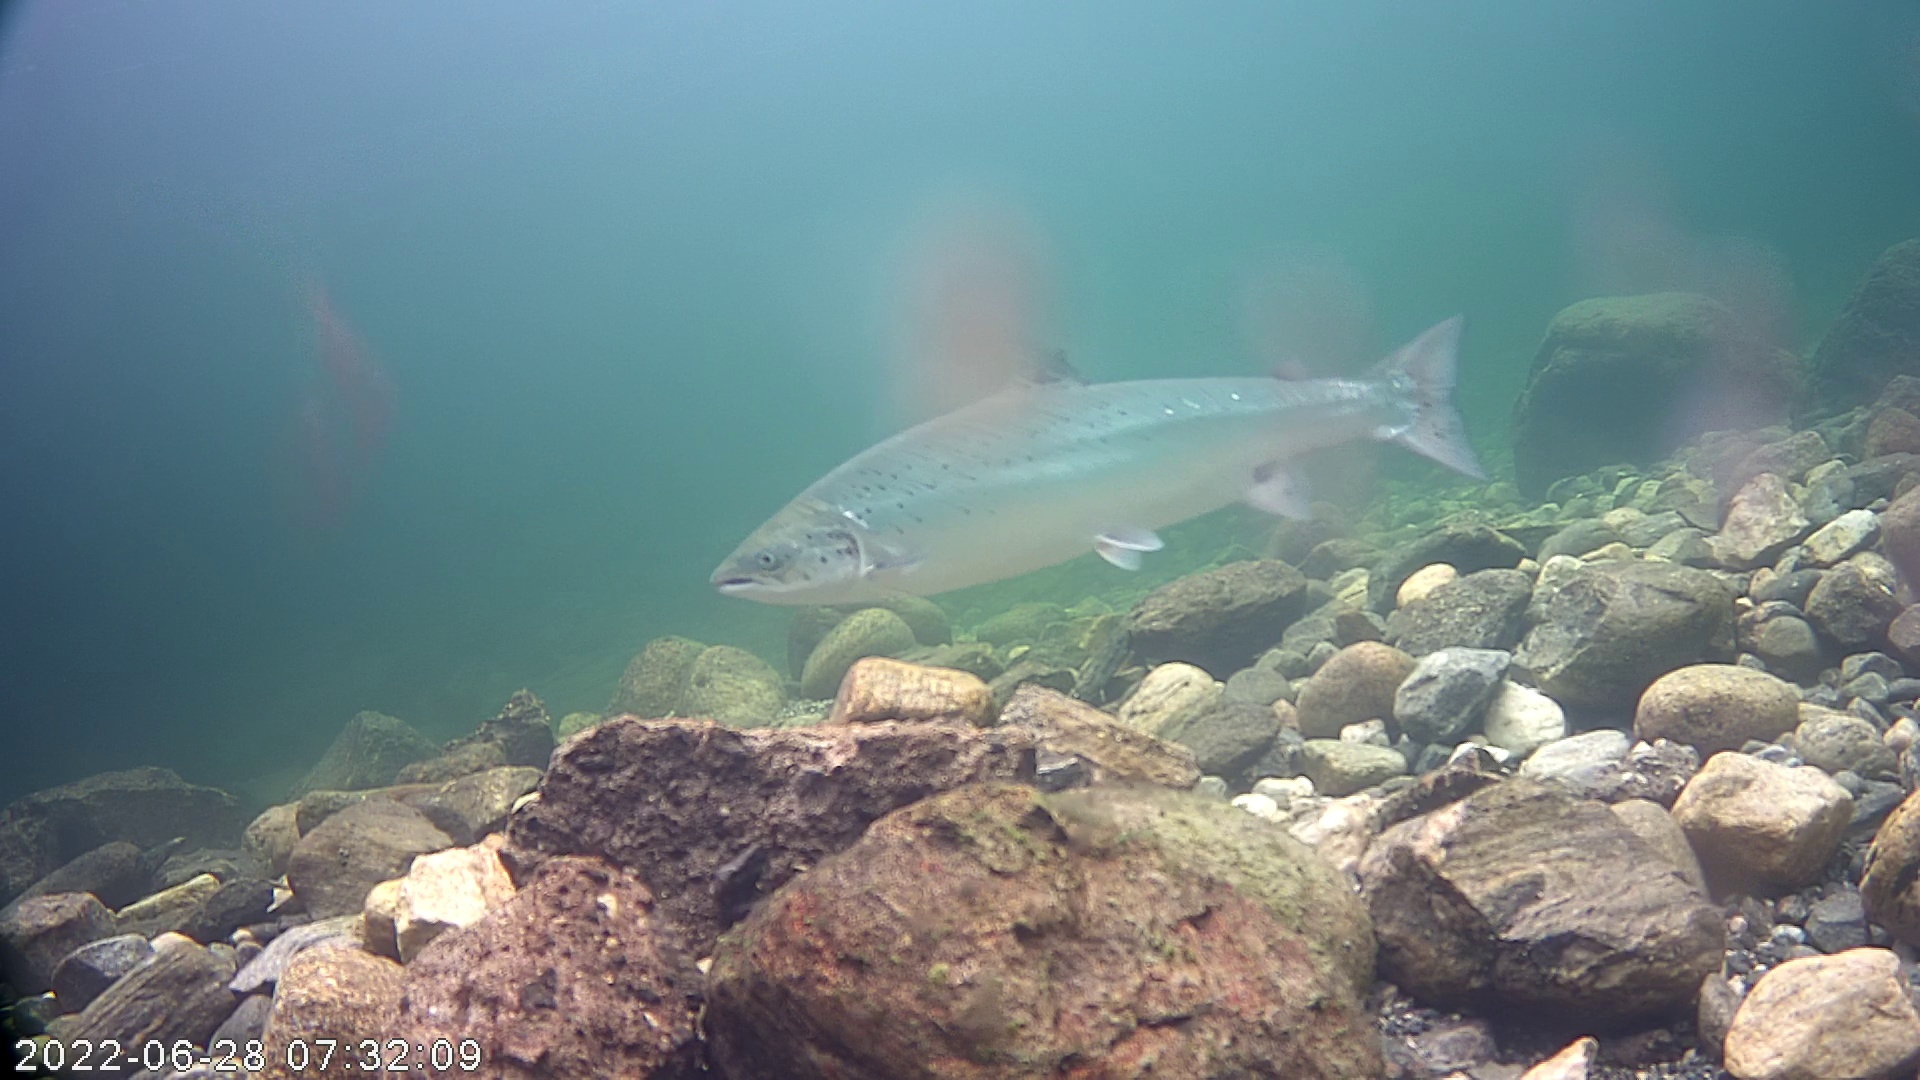salmon: (705, 218, 1518, 651)
